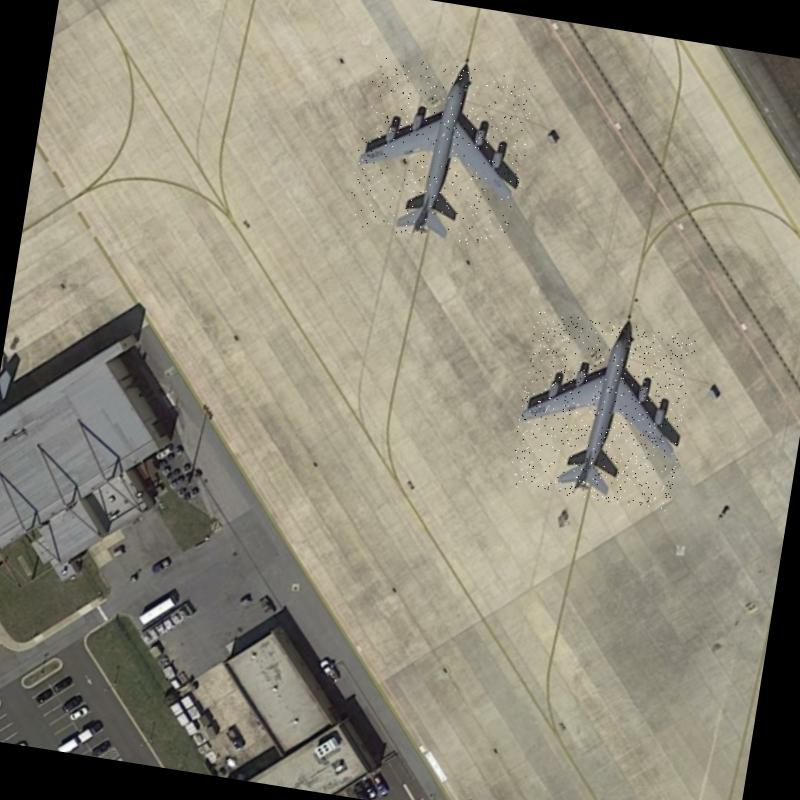A14: (508, 311, 697, 512), (346, 52, 537, 250)
